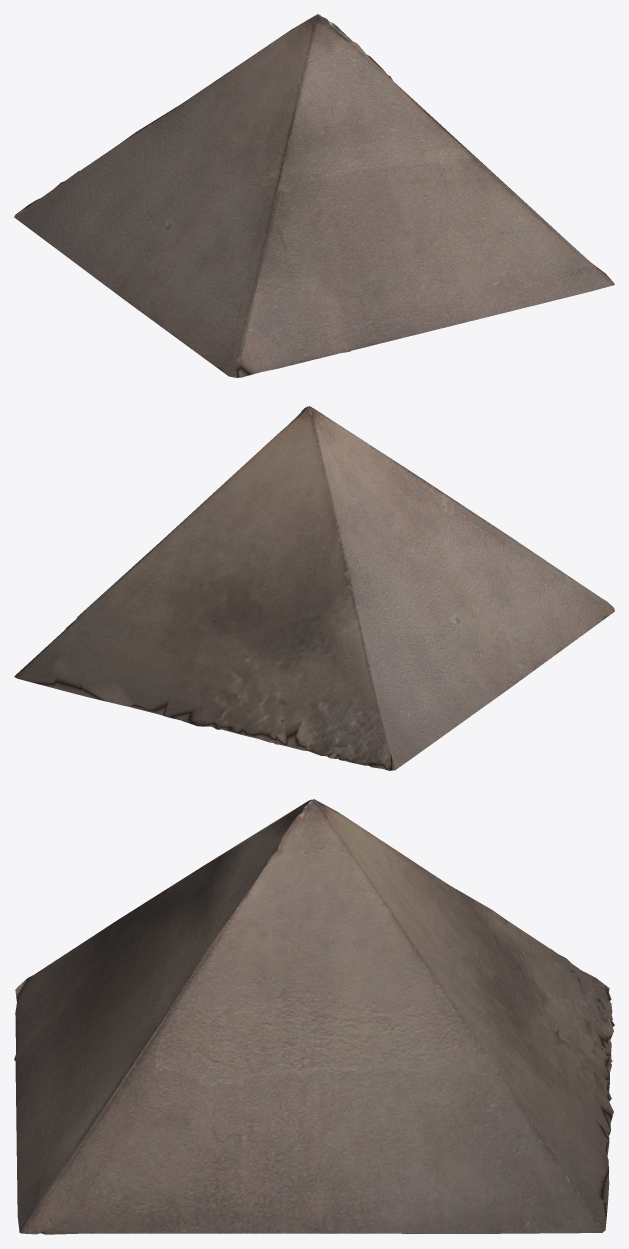
Rendered from Benben_Stone.fbx.
The picture shows the model from 3 angles, top to bottom: view 1: azimuth 30°, elevation 25°; view 2: azimuth 150°, elevation 25°; view 3: azimuth 270°, elevation 25°; orthographic projection. The views are drawn at different scales.
Parts seen in each view (by area): view 1: Benben_Stone_LOD0; view 2: Benben_Stone_LOD0; view 3: Benben_Stone_LOD0.
Boxes of the visible parts, x1,y1,x2,y2 form: Benben_Stone_LOD0: (14,14,614,377); Benben_Stone_LOD0: (14,406,614,770); Benben_Stone_LOD0: (14,799,614,1234).
Size of what is drawn, in the model's own units: 600 by 350 by 610.
